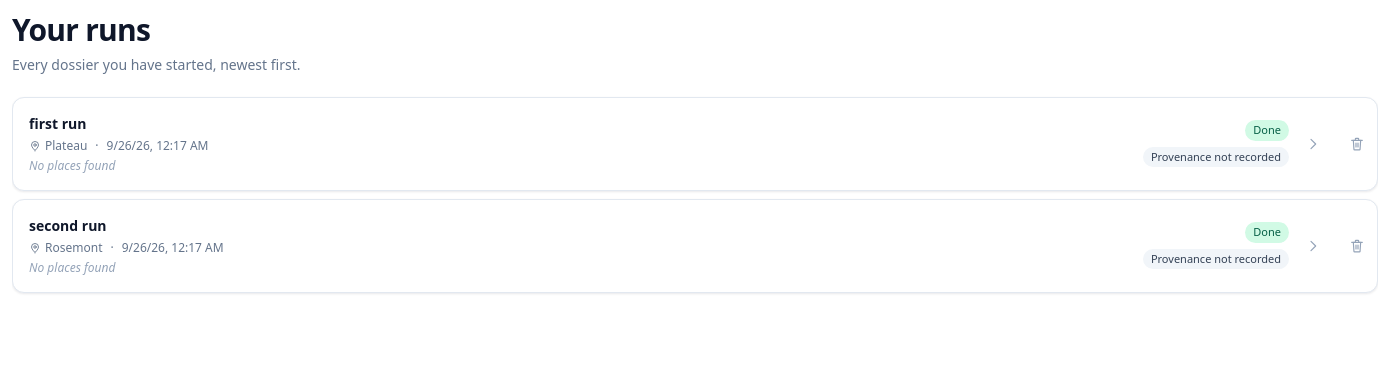
<JobHistory /> deleting a run › removes only the confirmed row, and says what survives
This screenshot has width=1390, height=382.
Check: the text "first run" is shown, box [29,114,86,133]
Click the button named "Delete this run" in the row of "Plateau".
click(1357, 144)  # box [1337,98,1377,190]
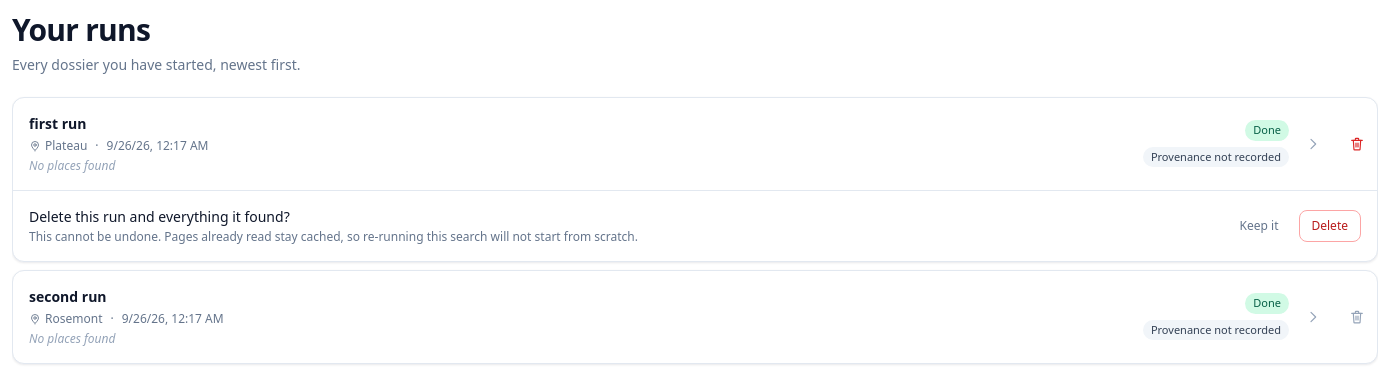
Check: the text "stay cached" is shown, box [29,228,638,245]
Click the button "Delete".
click(1330, 226)  # box [1298,210,1361,242]
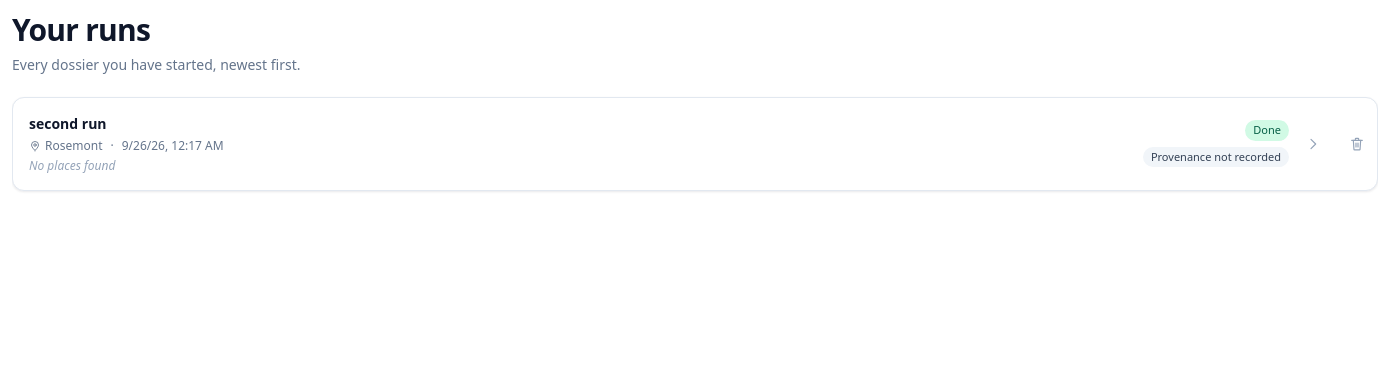
Check: the text "second run" is shown, box [29,114,106,133]
Check: the link "first run" is gone
